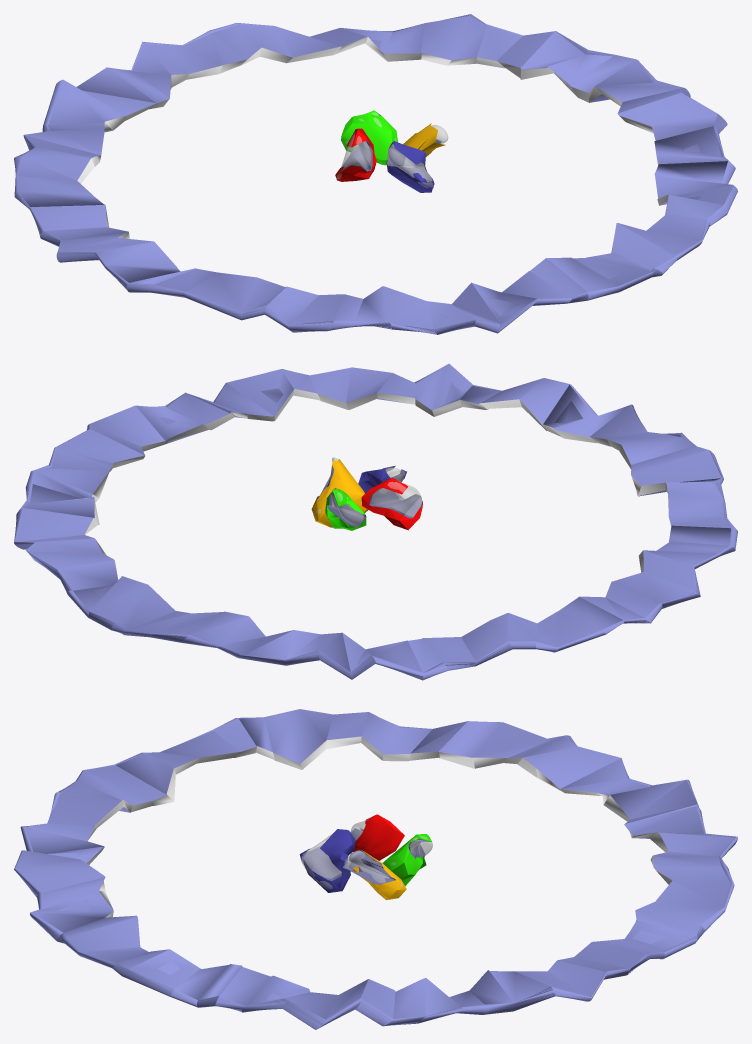
File: Project Name (2).fbx
The picture shows the model from 3 angles, top to bottom: view 1: azimuth 30°, elevation 25°; view 2: azimuth 150°, elevation 25°; view 3: azimuth 270°, elevation 25°; orthographic projection.
Visible parts, largest first — view 1: Main level grass, Cylinder 10, Polyhedron (×4), Sphere 7 (×2), Box 21 (×2); view 2: Main level grass, Cylinder 10, Polyhedron (×3), Box 21 (×2), Sphere 7; view 3: Main level grass, Cylinder 10, Polyhedron (×4), Box 21 (×2), Sphere 7.
Boxes of the visible parts, <box> form: Main level grass: <box>14,14,737,334</box>; Cylinder 10: <box>77,36,668,252</box>; Polyhedron (×4): <box>335,110,445,192</box>; Sphere 7 (×2): <box>337,132,433,188</box>; Box 21 (×2): <box>342,140,432,182</box>; Main level grass: <box>14,363,737,680</box>; Cylinder 10: <box>85,389,667,595</box>; Polyhedron (×3): <box>311,459,422,530</box>; Box 21 (×2): <box>327,488,422,526</box>; Sphere 7: <box>372,480,421,524</box>; Main level grass: <box>14,709,737,1029</box>; Cylinder 10: <box>87,736,672,978</box>; Polyhedron (×4): <box>299,814,431,900</box>; Box 21 (×2): <box>301,829,395,884</box>; Sphere 7: <box>301,833,341,889</box>.
Size of the model in its own units: 1297 by 1282 by 126.
